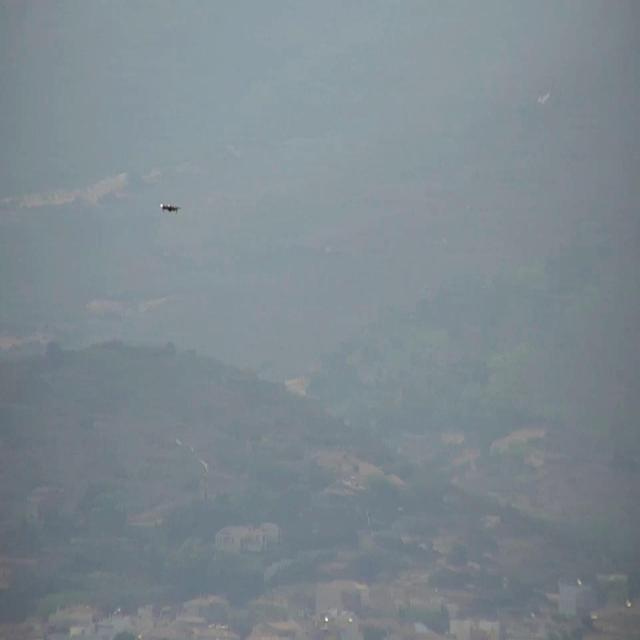drone: (154, 198, 183, 222)
